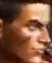kevin: (6, 0, 51, 62)
